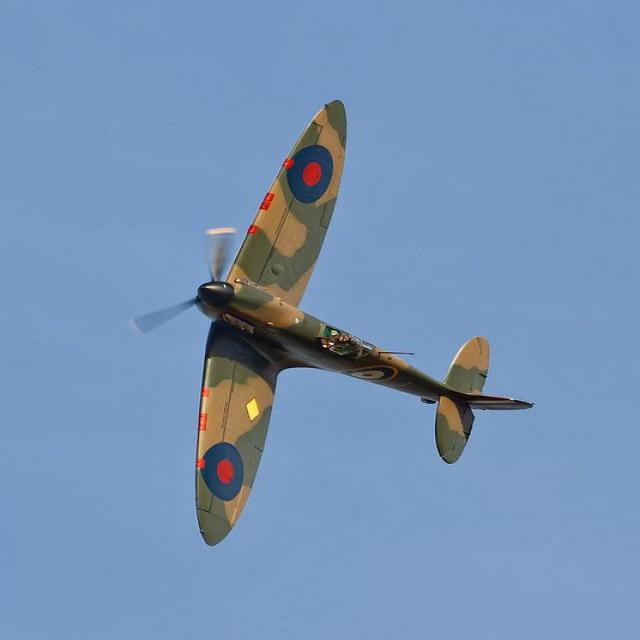iha: (134, 98, 541, 548)
